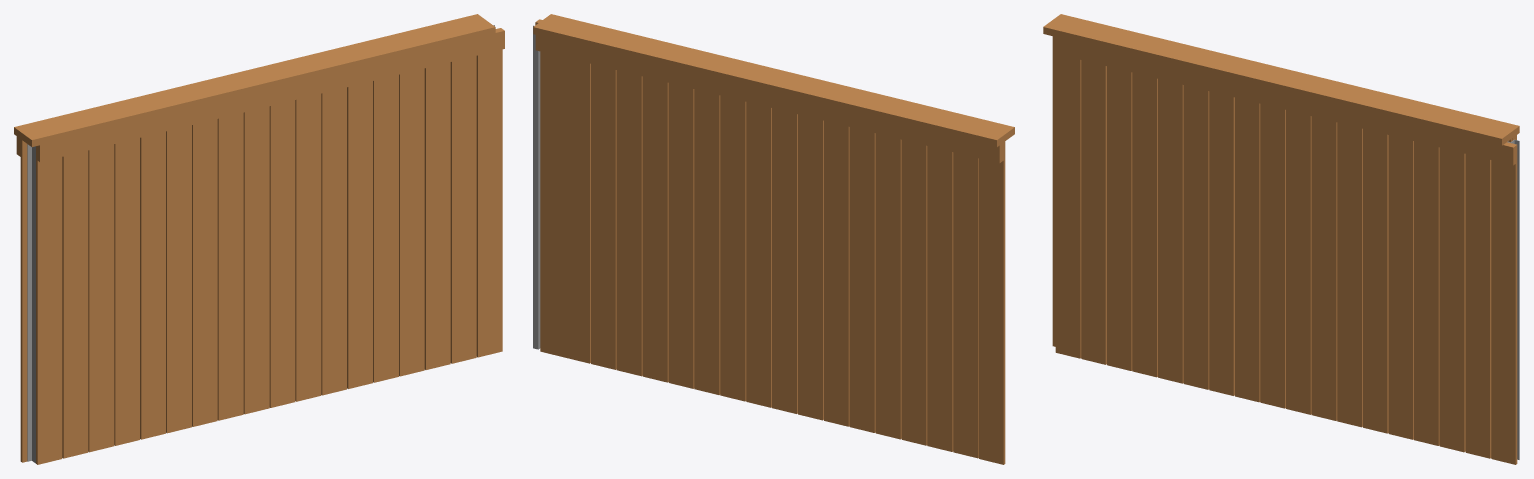
Rendered from Fence.fbx.
3 views of the same model, side by side, from view 1: azimuth 30°, elevation 25°; view 2: azimuth 150°, elevation 25°; view 3: azimuth 330°, elevation 25° (orthographic).
Visible parts, largest first — view 1: Fence_Cap1, Group3, Fence_Plank17, Fence_Plank18, Fence_Plank9, Fence_Plank16, Fence_Plank11, Fence_Plank3, Fence_Plank12, Fence_Plank13, Fence_Plank6, Fence_Plank1 (+10 smaller); view 2: Fence_Cap1, Fence_Plank34, Fence_Plank23, Fence_Plank27, Fence_Plank29, Fence_Plank26, Fence_Plank33, Fence_Plank21, Fence_Plank30, Fence_Plank32, Fence_Plank19, Fence_Plank24 (+9 smaller); view 3: Fence_Cap1, Fence_Plank18, Group3, Fence_Plank9, Fence_Plank1, Fence_Plank3, Fence_Plank4, Fence_Plank17, Fence_Plank12, Fence_Plank13, Fence_Plank14, Fence_Plank2 (+10 smaller).
Boxes of the visible parts, box(x1,y1,x2,y2) form: Fence_Cap1: box(14, 14, 495, 146); Group3: box(37, 29, 504, 161); Fence_Plank17: box(36, 146, 62, 464); Fence_Plank18: box(476, 28, 502, 357); Fence_Plank9: box(424, 62, 450, 369); Fence_Plank16: box(217, 112, 243, 420); Fence_Plank11: box(88, 144, 114, 452); Fence_Plank3: box(295, 93, 321, 401); Fence_Plank12: box(62, 150, 88, 458); Fence_Plank13: box(269, 100, 295, 407); Fence_Plank6: box(243, 106, 269, 414); Fence_Plank1: box(450, 56, 476, 363); Fence_Cap1: box(533, 14, 1014, 147); Fence_Plank34: box(979, 141, 1005, 464); Fence_Plank23: box(642, 76, 668, 382); Fence_Plank27: box(849, 127, 875, 432); Fence_Plank29: box(694, 89, 720, 394); Fence_Plank26: box(720, 95, 746, 401); Fence_Plank33: box(901, 139, 927, 445); Fence_Plank21: box(616, 70, 642, 376); Fence_Plank30: box(927, 146, 953, 451); Fence_Plank32: box(875, 133, 901, 439); Fence_Plank19: box(668, 83, 694, 388); Fence_Plank24: box(565, 57, 590, 363); Fence_Cap1: box(1043, 14, 1519, 145); Fence_Plank18: box(1491, 142, 1517, 464); Group3: box(1053, 36, 1515, 165); Fence_Plank9: box(1439, 147, 1465, 452); Fence_Plank1: box(1465, 154, 1491, 458); Fence_Plank3: box(1311, 116, 1337, 420); Fence_Plank4: box(1183, 85, 1209, 389); Fence_Plank17: box(1055, 54, 1081, 358); Fence_Plank12: box(1081, 60, 1106, 364); Fence_Plank13: box(1286, 110, 1311, 414); Fence_Plank14: box(1414, 141, 1439, 445); Fence_Plank2: box(1158, 79, 1183, 383).
Size of the model in its own units: 110 by 73 by 7.18.
